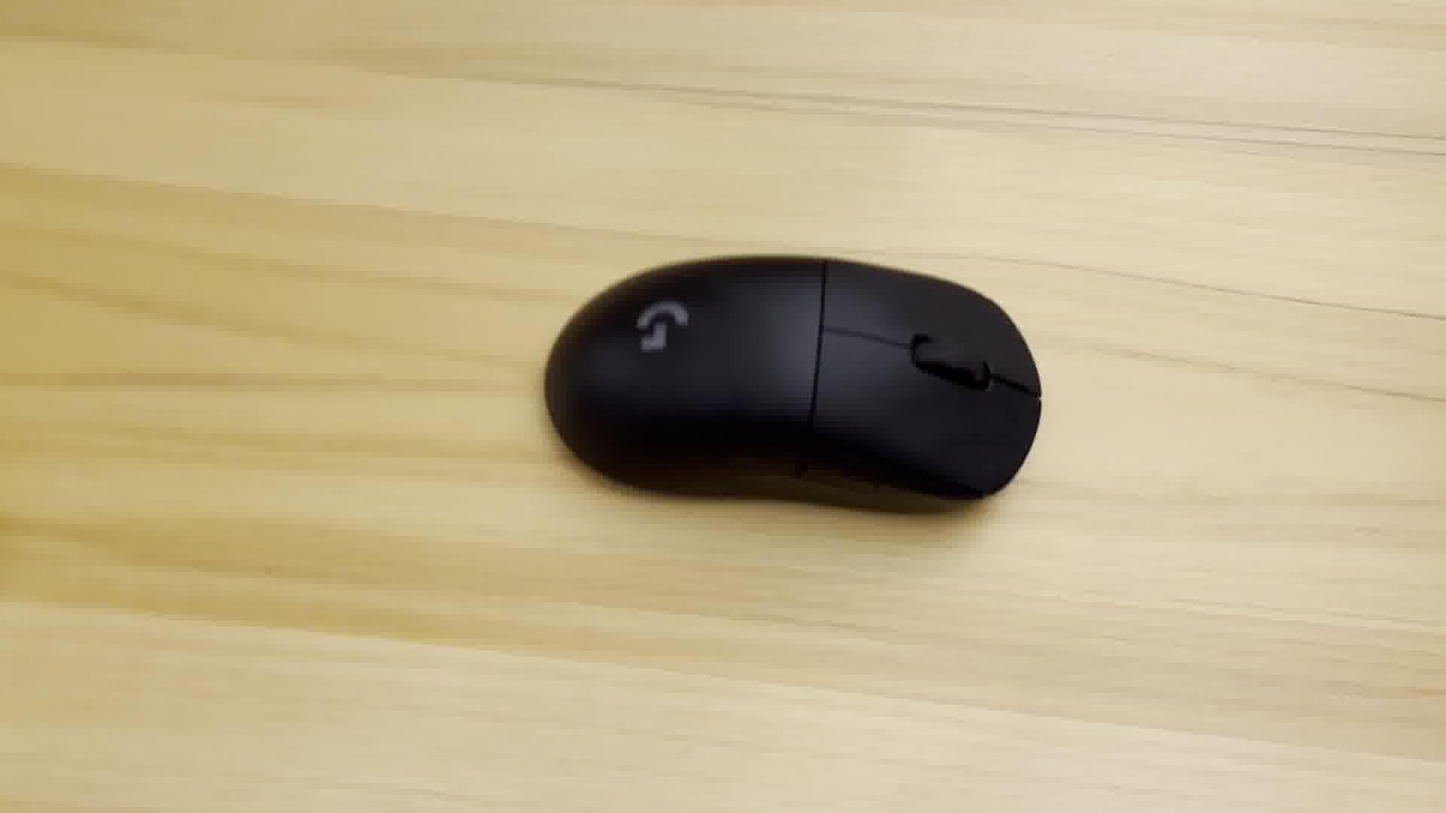mouse: (538, 244, 1054, 532)
